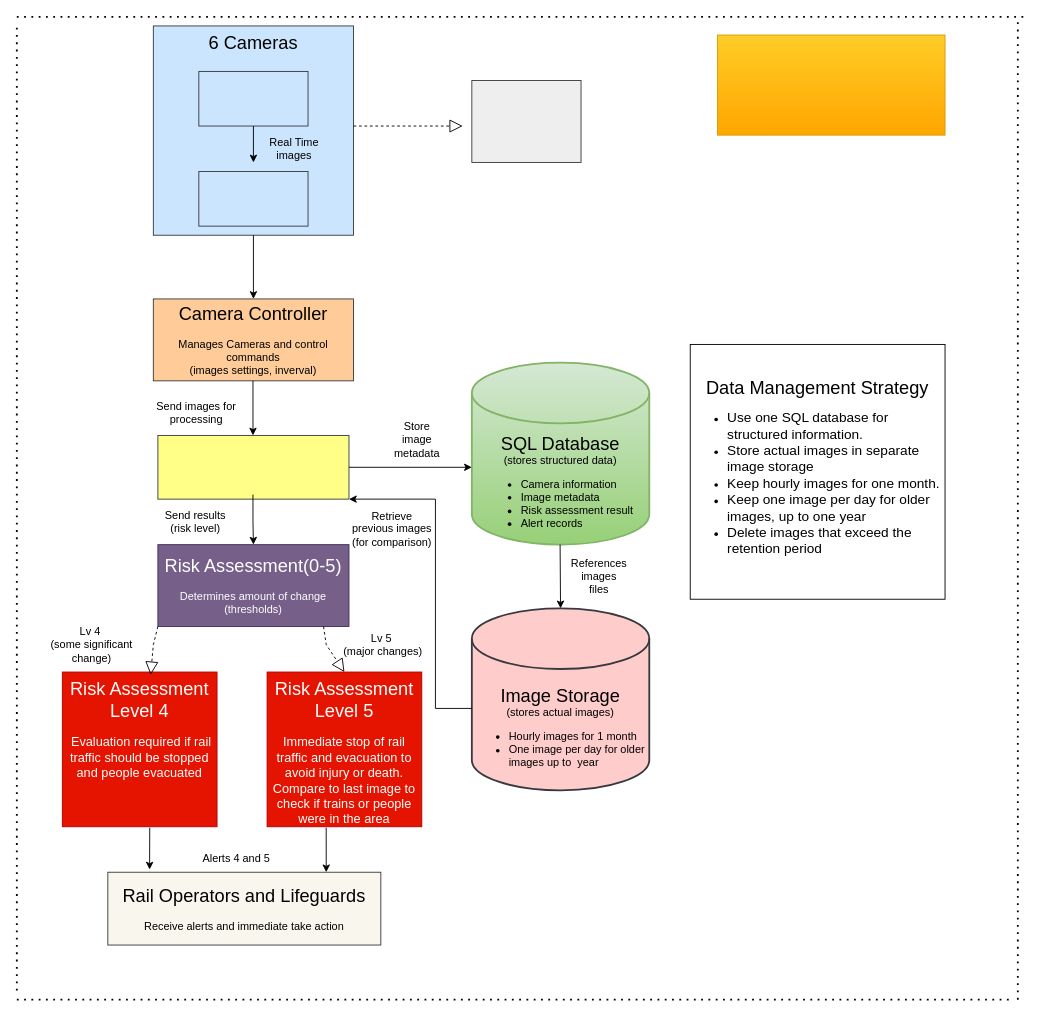
This 1044x1016 diagram has some shape labels left out. Each missing label, with the centre of its shape:
"10-Megapixel Wi-Fi Enabled Camera (Night Vision)" belongs at (253,98).
"Central Site" belongs at (831,84).
"Image Processing Compare Images and detects changes" belongs at (253,467).
"Third Party Cellular Network (Amtrak)" belongs at (526,121).
"Wi-Fi (Router)" belongs at (253,198).
